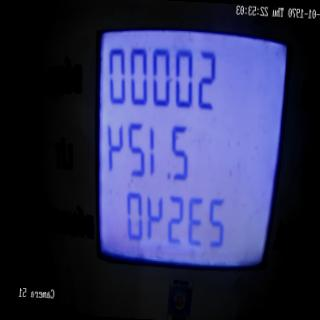screen: (81, 2, 296, 302)
